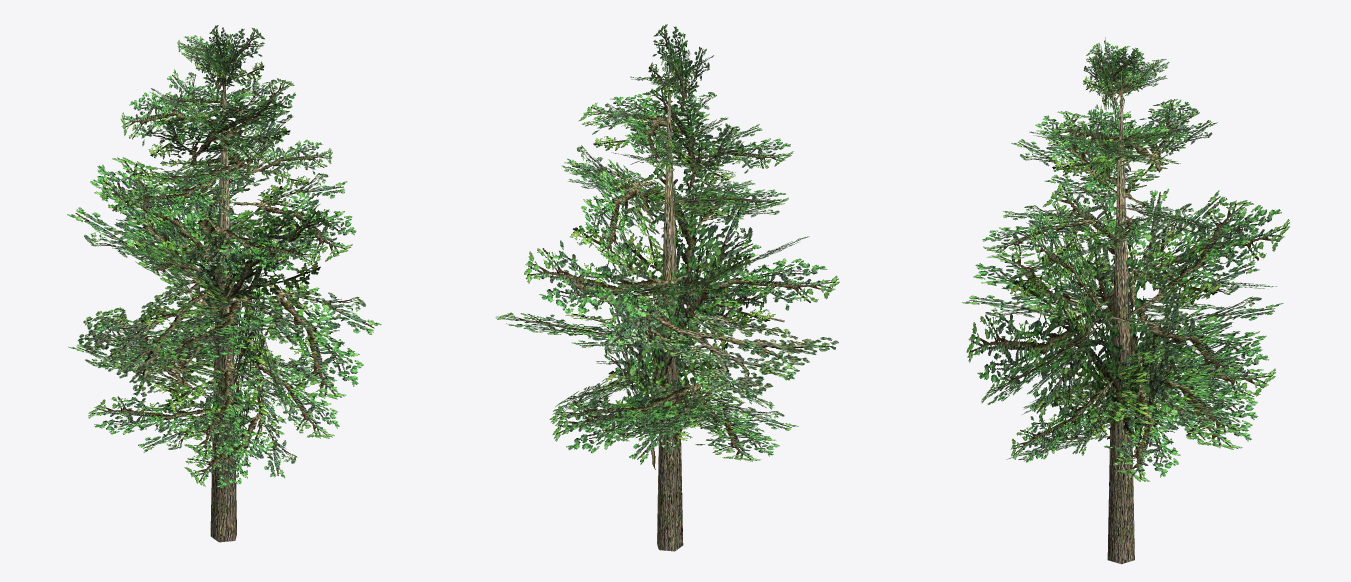
File: oak5.glb
3 renders of one model, left to right at view 1: azimuth 30°, elevation 25°; view 2: azimuth 150°, elevation 25°; view 3: azimuth 270°, elevation 25°, orthographic.
Parts seen in each view (by area): view 1: oak5; view 2: oak5; view 3: oak5.
Boxes of the visible parts, bbox=[...] form: oak5: bbox=[67, 25, 381, 542]; oak5: bbox=[495, 24, 839, 551]; oak5: bbox=[962, 37, 1289, 564].
Size of the model in its own units: 11.51 by 17.69 by 12.64.
Materials: 1 (1 with a texture image).
